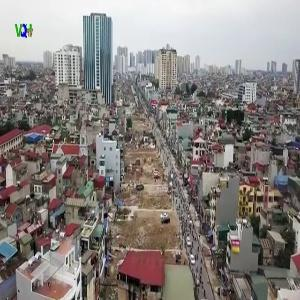drone: (153, 160, 193, 200)
